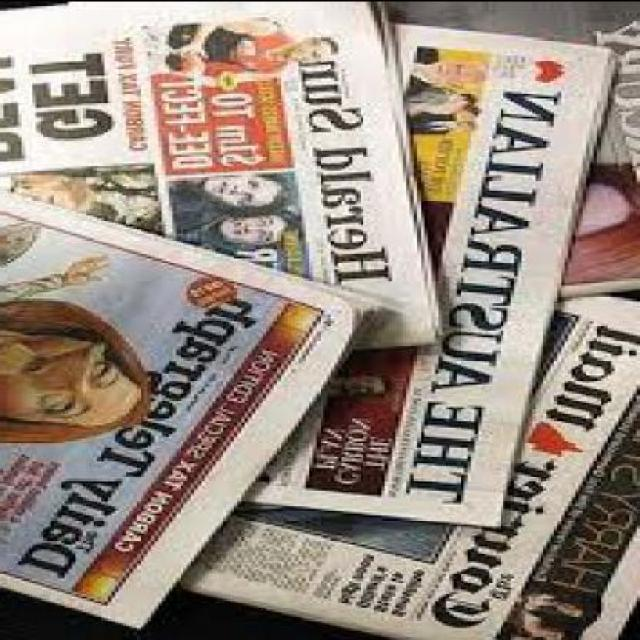PAPER: (234, 22, 621, 530), (3, 194, 385, 631), (180, 292, 640, 638), (3, 2, 449, 350), (380, 0, 638, 300)
